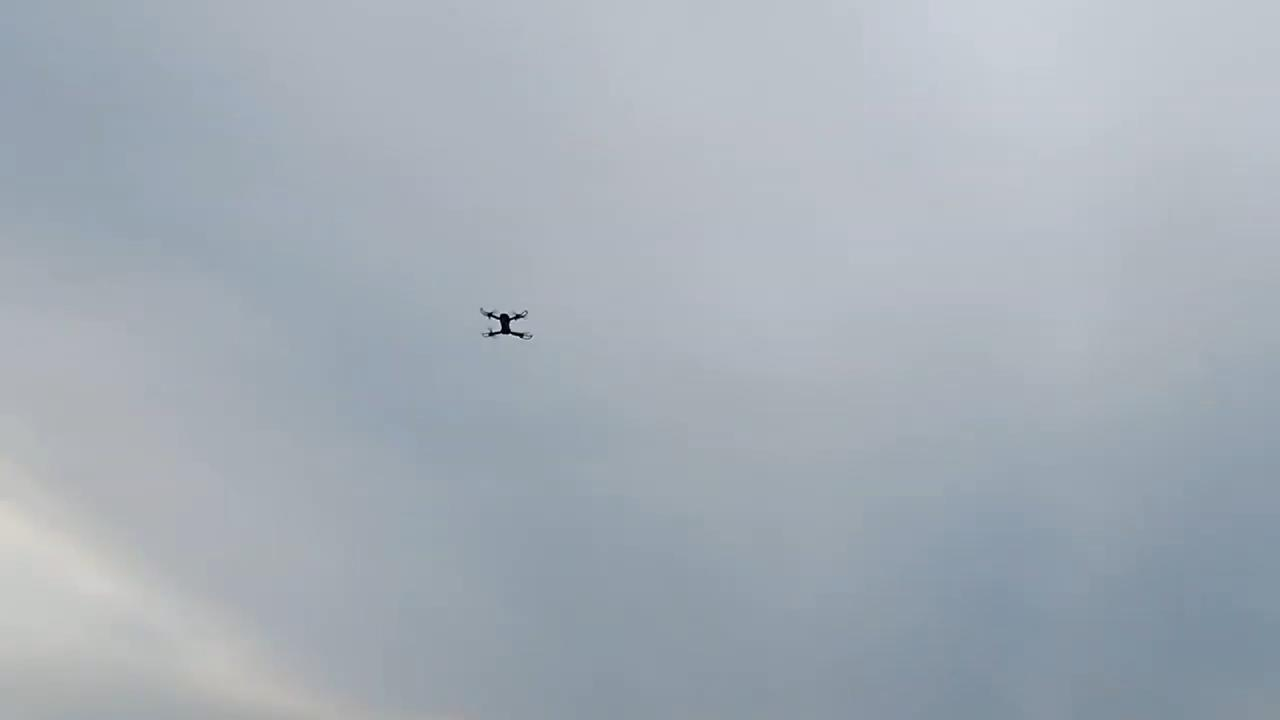Drone: (463, 293, 546, 356)
